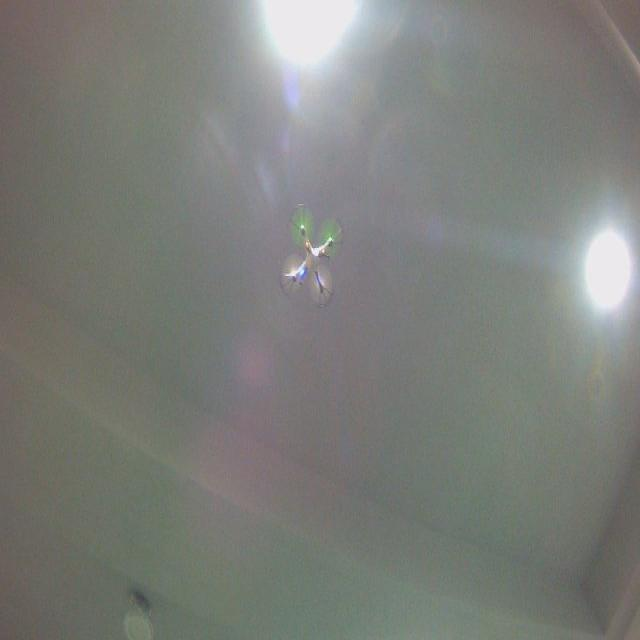drone: (276, 199, 347, 312)
